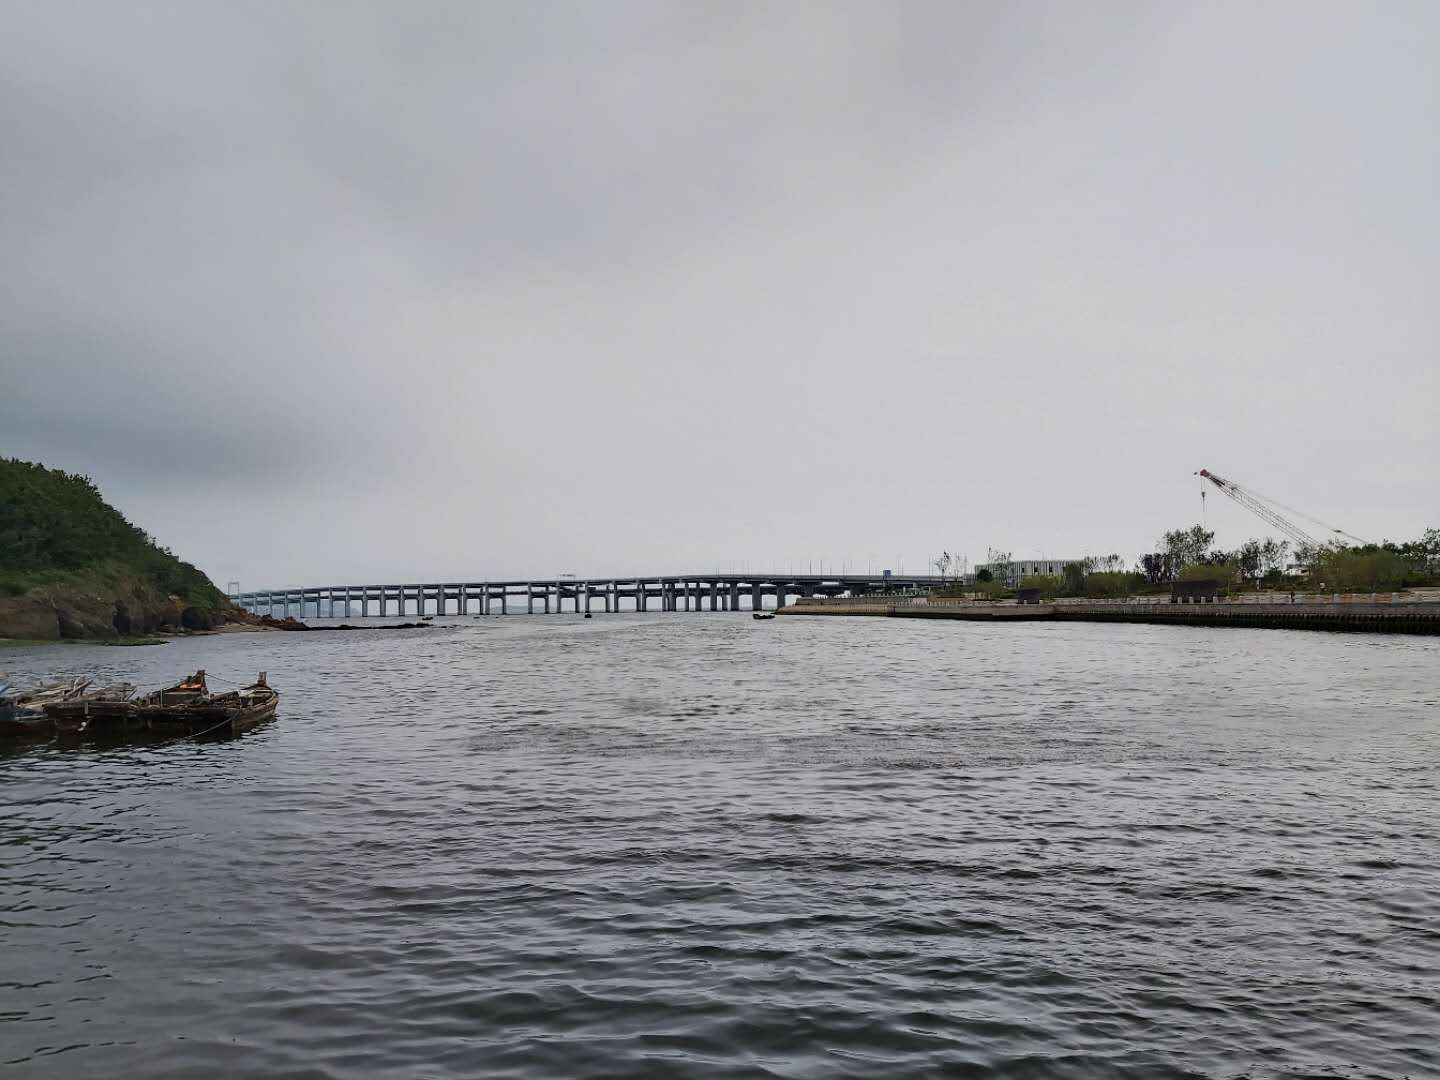boat: (5, 648, 76, 742), (190, 677, 281, 739), (41, 676, 129, 735), (134, 664, 189, 739)
bridge: (240, 577, 793, 613)
rock: (314, 619, 444, 635)
